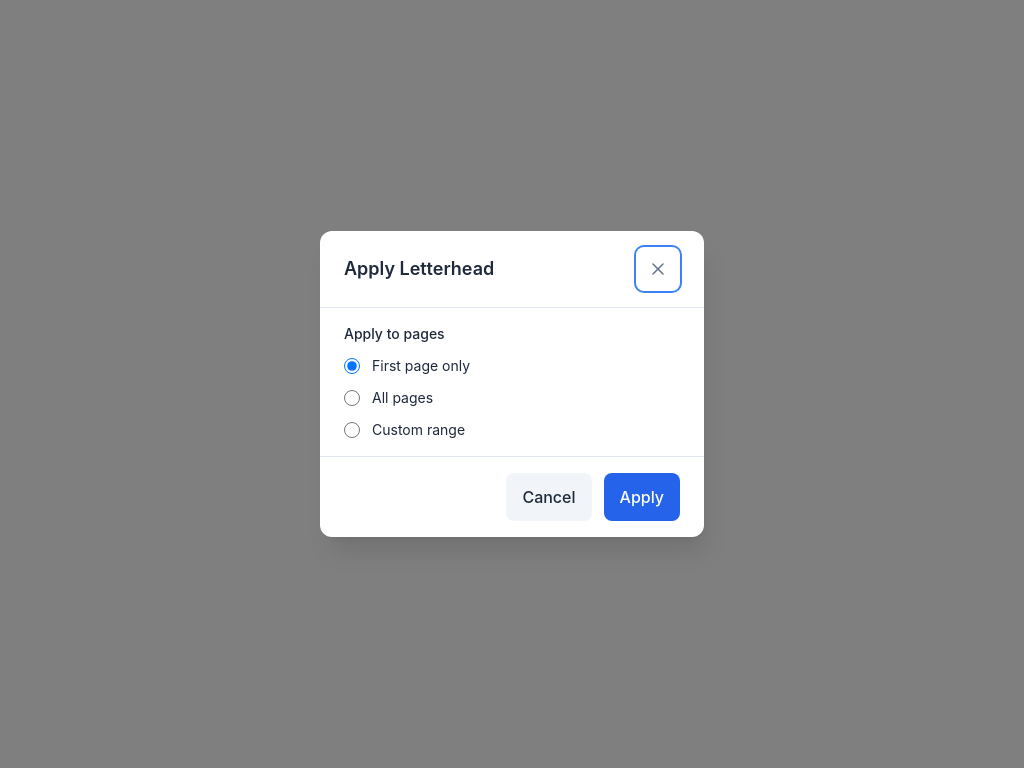
LetterheadApplyModal › shows custom range input when custom is selected
Click the radio button labelled "Custom range". click: (352,430)
box: x1=344 y1=422 x2=360 y2=438
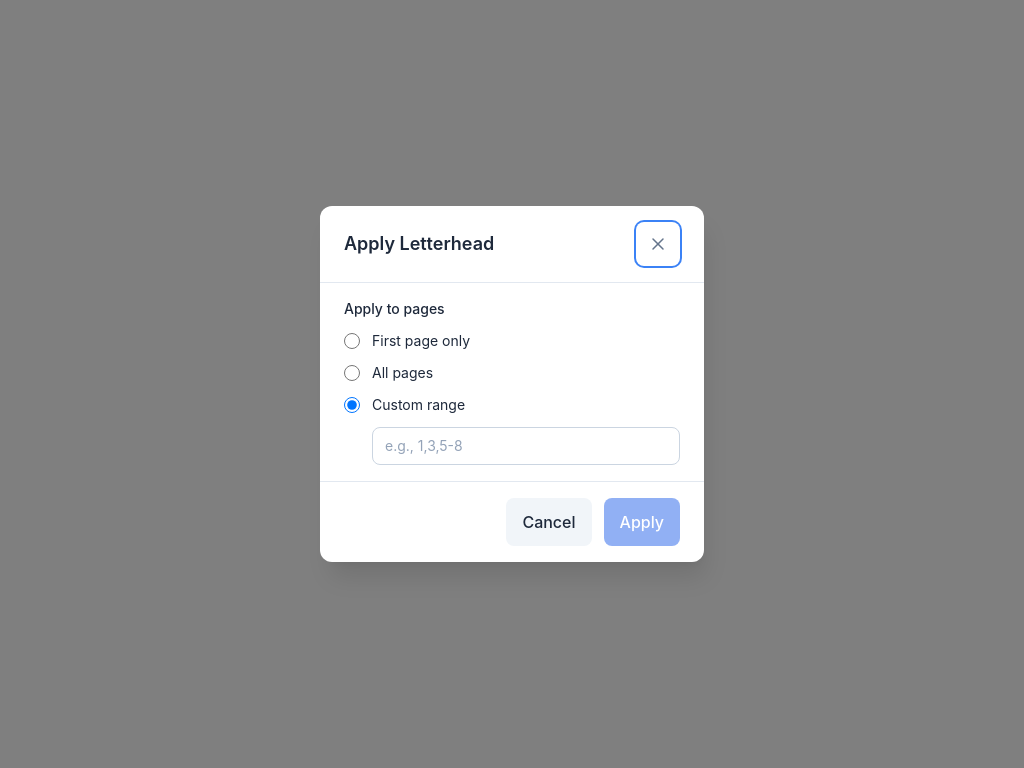
Expected: the field with placeholder "e.g., 1,3,5-8" is shown, x1=372 y1=427 x2=680 y2=465
